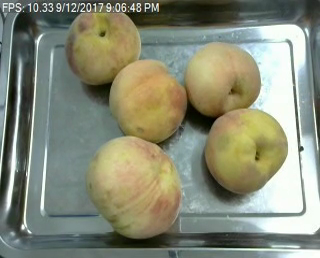Peach: (87, 134, 182, 241), (204, 108, 288, 194), (108, 59, 187, 143), (64, 6, 143, 85), (184, 38, 262, 116)
